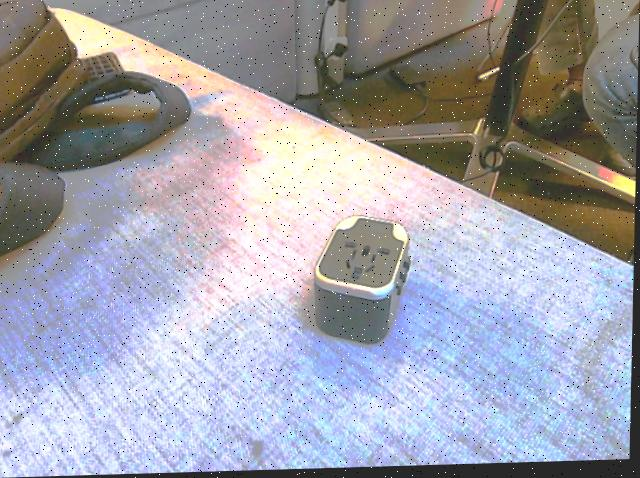adapter: (312, 216, 414, 347)
